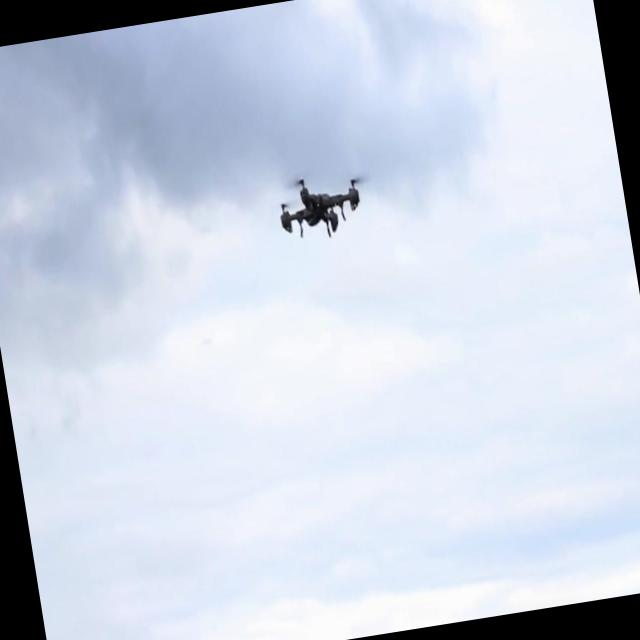drone: (270, 166, 372, 246)
